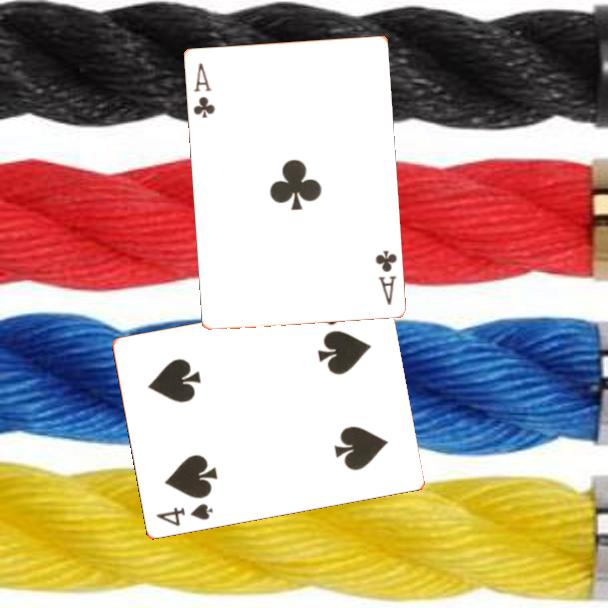c01: (371, 246, 400, 308), (189, 59, 218, 120)
s04: (153, 500, 216, 530)
